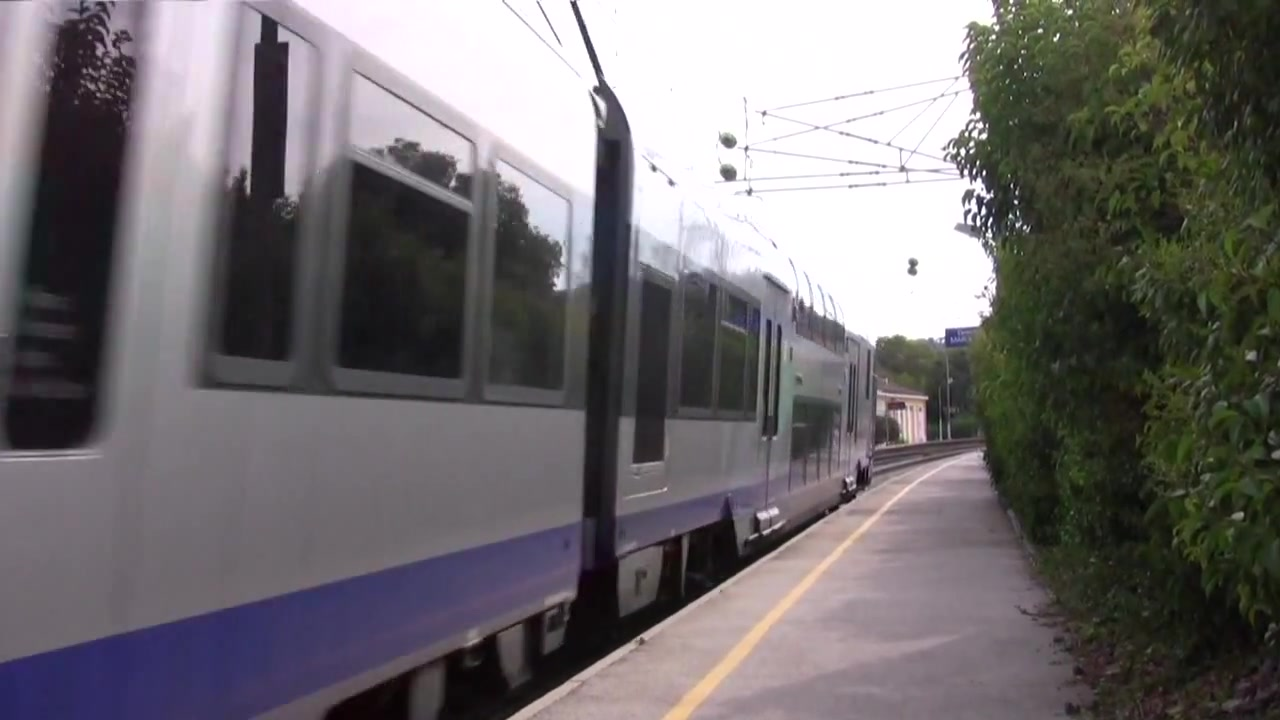train: (1, 1, 880, 720)
